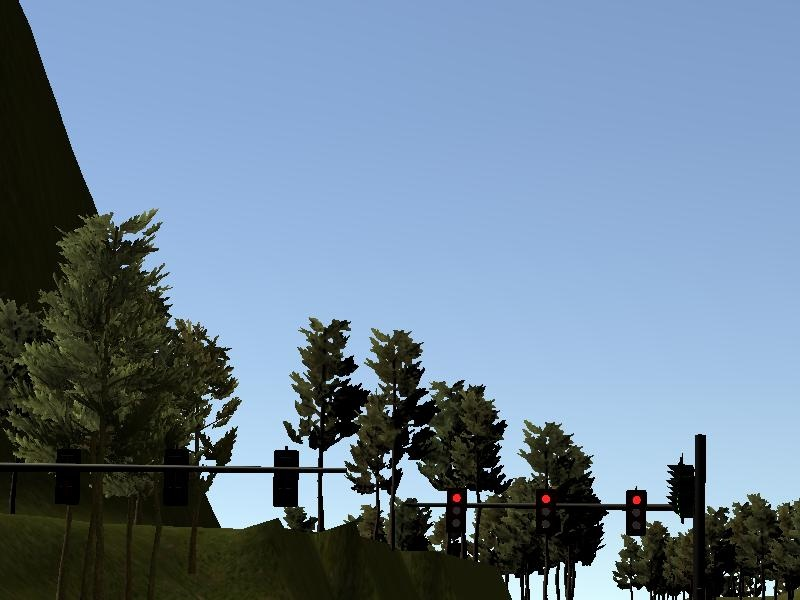traffic_light_red: (426, 487, 669, 536)
